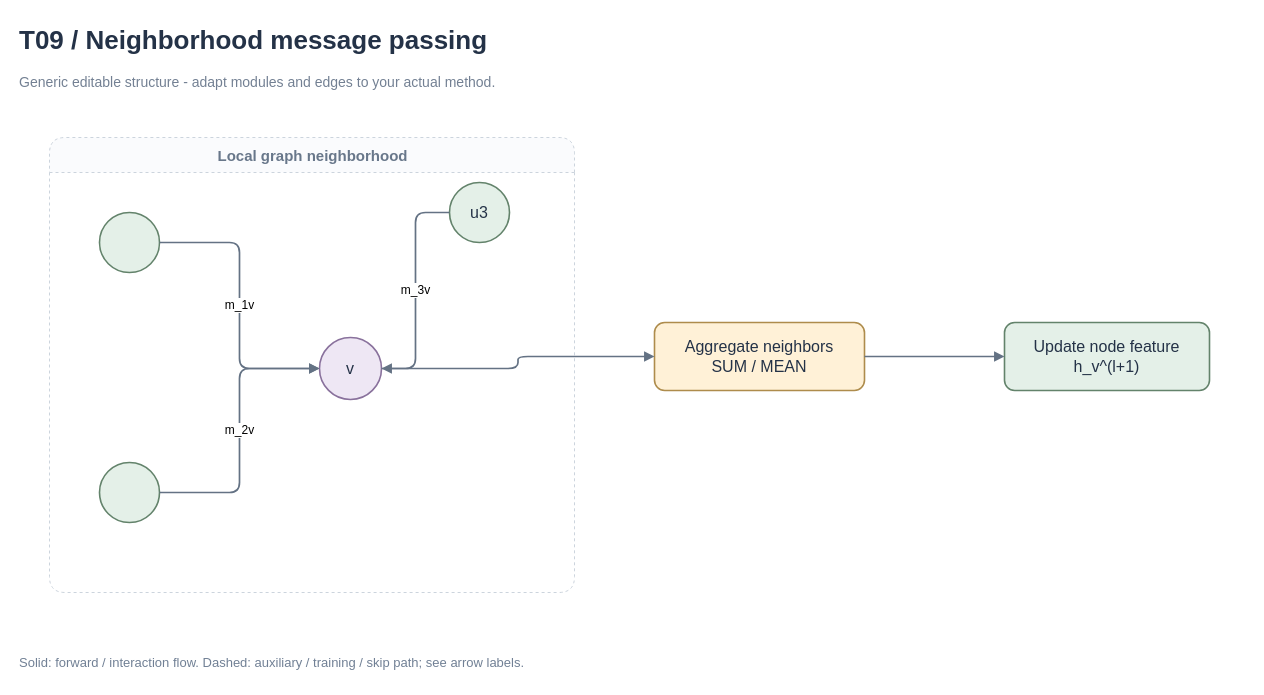
This 1264x695 diagram has some shape labels left out. Here are the shapes that lost their labels. From the top down, the centre of each, then its label:
At [129,242]: "u1".
At [129,492]: "u2".
